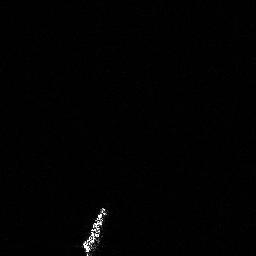ship: (79, 204, 111, 256)
